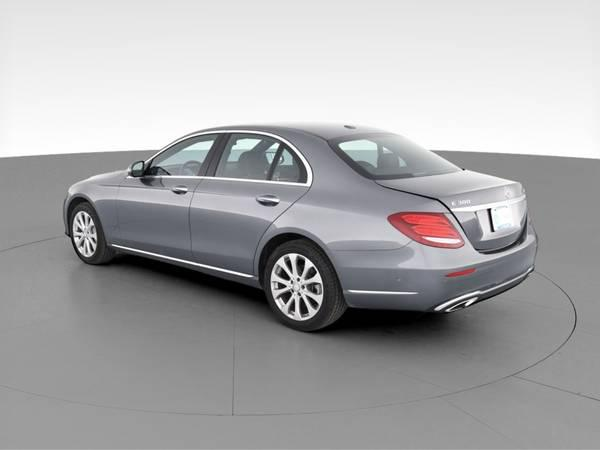Front_Fender: (63, 179, 124, 250)
Front_Left_Door: (114, 180, 200, 270)
Front_Left_Window: (130, 133, 226, 178)
Left_Taillight: (390, 212, 472, 252)
Rear_Bumper: (328, 213, 538, 312)
Rear_Fender: (273, 180, 453, 251)
Rear_Left_Door: (188, 178, 309, 287)
Rear_Left_Window: (203, 130, 310, 187)
Rear_Windshield: (329, 130, 464, 180)
Roof: (144, 117, 395, 183)
Tailgate: (374, 169, 526, 249)
Wheel: (261, 237, 345, 327), (67, 202, 113, 262)
